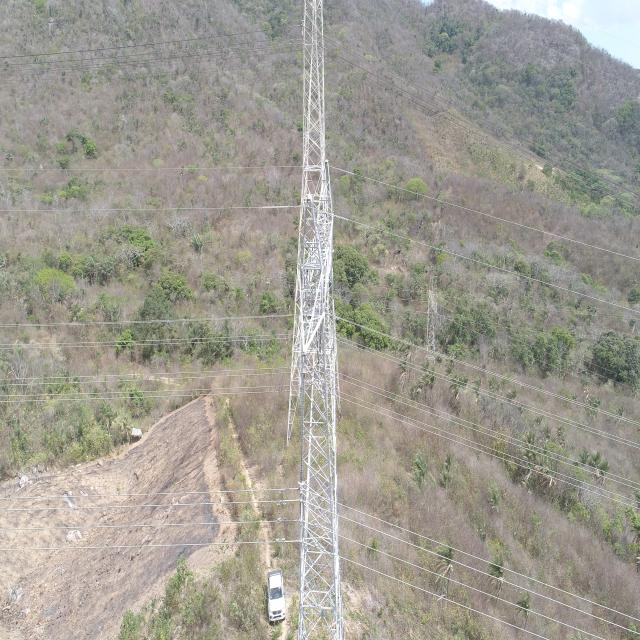杆塔: (295, 0, 345, 640)
正常电缆: (352, 517, 640, 638), (341, 376, 640, 492), (354, 504, 640, 624), (342, 398, 640, 513), (340, 210, 640, 316), (348, 533, 605, 640), (347, 554, 539, 640), (2, 493, 296, 516), (0, 382, 286, 405), (0, 535, 294, 557), (1, 514, 295, 536), (2, 483, 295, 502), (1, 202, 290, 218), (6, 158, 244, 174)
